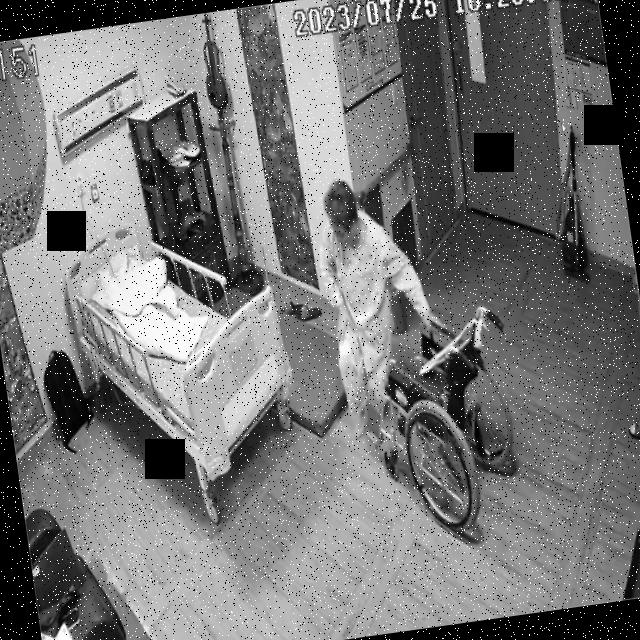danger: (306, 167, 458, 440)
patient: (306, 168, 458, 440)
wheelchair: (363, 298, 533, 546)
